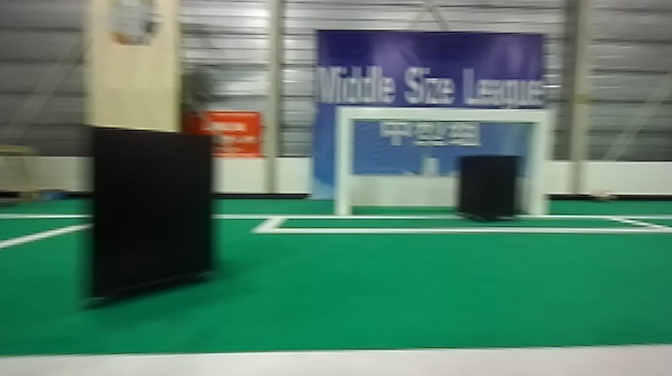goalpost: (331, 102, 357, 219), (528, 115, 550, 224)
